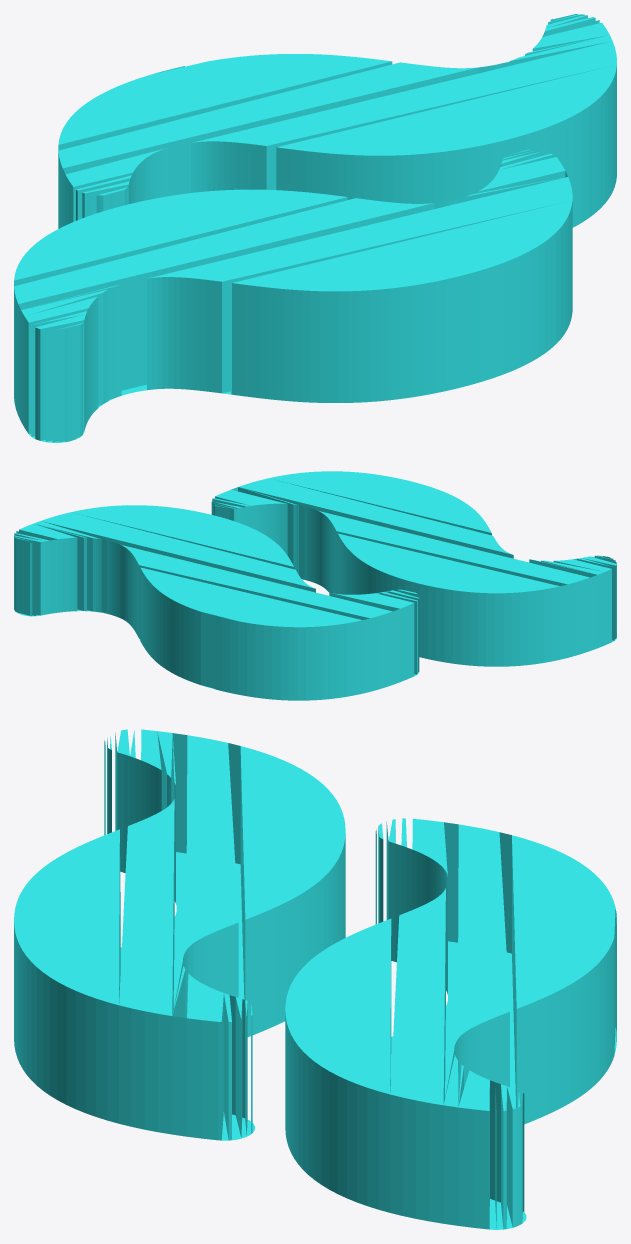
File: tailwindok.glb
3 views of the same model, one above another, from view 1: azimuth 30°, elevation 25°; view 2: azimuth 150°, elevation 25°; view 3: azimuth 270°, elevation 25° (orthographic). The views are drawn at different scales.
Parts seen in each view (by area): view 1: Curve.001, Curve; view 2: Curve, Curve.001; view 3: Curve, Curve.001.
Part boxes in pixels (x1,y1,x2,y2): Curve.001: (14,149,572,442); Curve: (58,14,616,228); Curve: (14,505,419,700); Curve.001: (211,471,616,666); Curve: (285,818,616,1229); Curve.001: (14,729,345,1140).
Size of the model in its own units: 0.00423 by 0.000612 by 0.00282.
